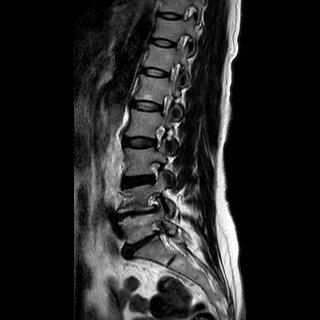LFS0: (147, 118, 169, 153), (144, 155, 167, 187), (153, 88, 176, 119)
LFS2: (143, 191, 166, 223)
